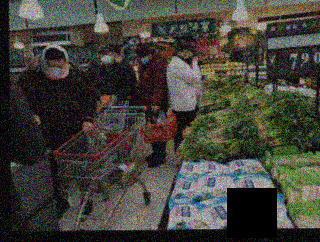with_mask: (44, 61, 66, 80), (99, 51, 112, 66), (136, 54, 149, 66), (184, 53, 194, 65), (197, 57, 205, 67)
